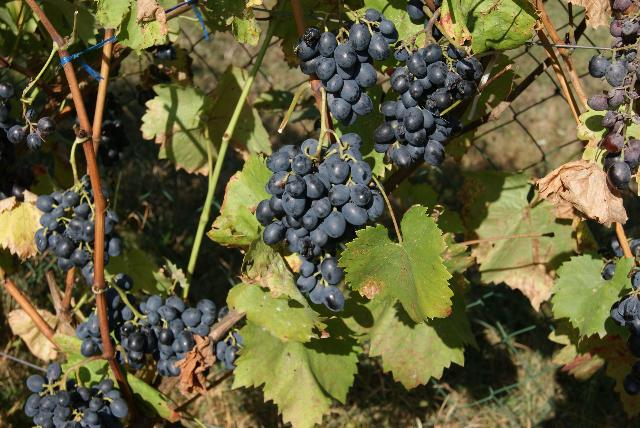grapes: (256, 139, 384, 311), (374, 42, 482, 168), (294, 9, 398, 120), (109, 289, 229, 376), (588, 0, 640, 190), (25, 362, 129, 428), (35, 175, 95, 274), (8, 118, 56, 151), (76, 312, 100, 358), (214, 331, 242, 370), (105, 214, 121, 261), (25, 110, 34, 121)
